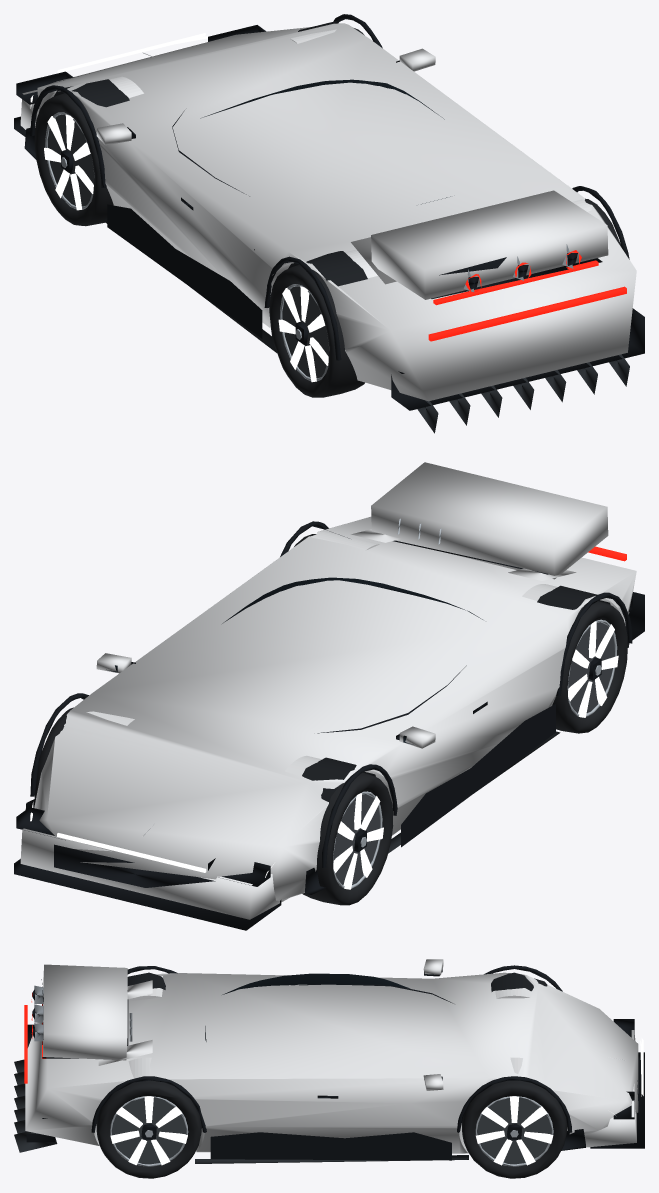
Rendered from roadster-opening.glb.
3 renders of one model, top to bottom at view 1: azimuth 30°, elevation 25°; view 2: azimuth 150°, elevation 25°; view 3: azimuth 270°, elevation 25°, orthographic. The views are drawn at different scales.
Visible parts, largest first — view 1: body, nacelle, wheel-rl, wheel-fl, fascia-rear, fascia-front, canopy, mirror-l; view 2: body, nacelle, fascia-front, wheel-fl, wheel-rl, canopy, fascia-rear; view 3: body, nacelle, wheel-fr, wheel-rr, fascia-front, fascia-rear, canopy, mirror-l.
Boxes of the visible parts, box(x1,y1,x2,y2) form: body: box(24, 14, 636, 401); nacelle: box(351, 190, 608, 305); wheel-rl: box(269, 265, 364, 397); wheel-fl: box(34, 93, 113, 226); fascia-rear: box(391, 286, 644, 433); fascia-front: box(14, 25, 266, 136); canopy: box(172, 79, 450, 204); mirror-l: box(96, 123, 135, 145); body: box(25, 516, 636, 900); nacelle: box(351, 462, 608, 580); fascia-front: box(14, 802, 289, 930); wheel-fl: box(302, 772, 393, 905); wheel-rl: box(552, 601, 627, 733); canopy: box(222, 577, 482, 733); fascia-rear: box(588, 546, 644, 647); body: box(25, 965, 638, 1163); nacelle: box(31, 964, 152, 1065); wheel-fr: box(462, 1080, 567, 1178); wheel-rr: box(96, 1080, 201, 1178); fascia-front: box(584, 1019, 644, 1148); fascia-rear: box(14, 1005, 57, 1152); canopy: box(205, 973, 453, 1041); mirror-l: box(423, 959, 443, 976).
Bounding box in the file's own units: 2.27 × 1.15 × 4.84.
